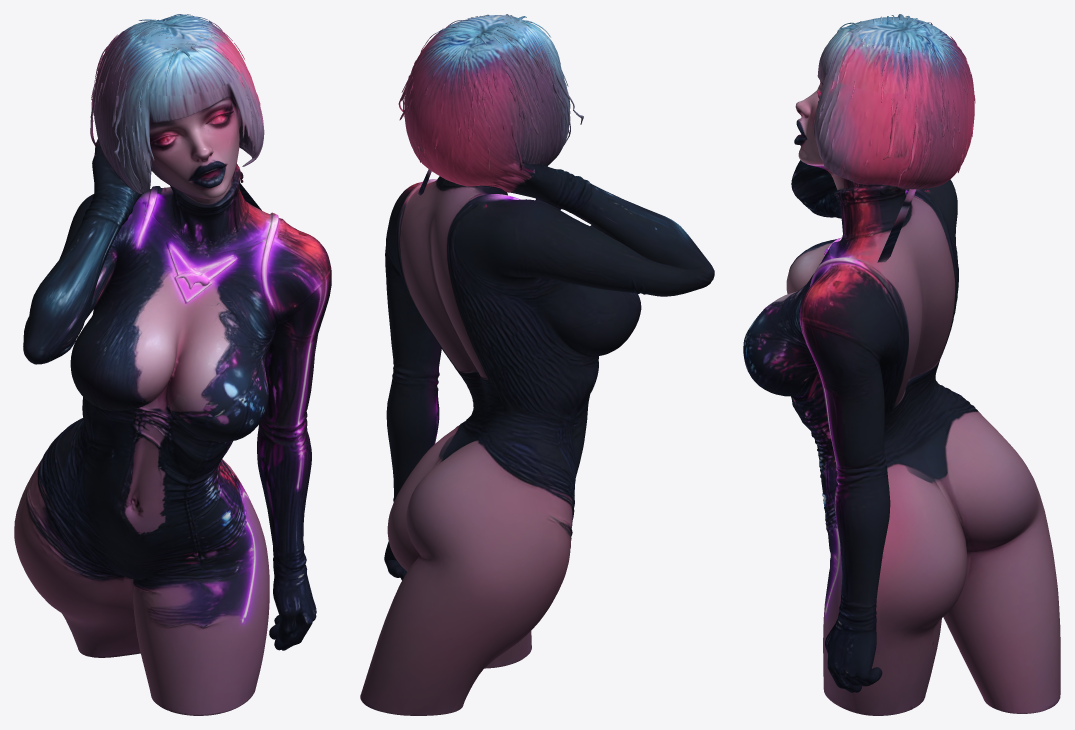
The picture shows the model from 3 angles, left to right: view 1: azimuth 30°, elevation 25°; view 2: azimuth 150°, elevation 25°; view 3: azimuth 270°, elevation 25°; orthographic projection. The views are drawn at different scales.
Parts seen in each view (by area): view 1: node_0; view 2: node_0; view 3: node_0.
Boxes of the visible parts, box(x1,y1,x2,y2) form: node_0: box(14, 14, 331, 715); node_0: box(360, 14, 714, 715); node_0: box(743, 14, 1060, 715).
Size of the model in its own units: 0.5395 by 1.08 by 0.4717.
1 material, 1 textured.
